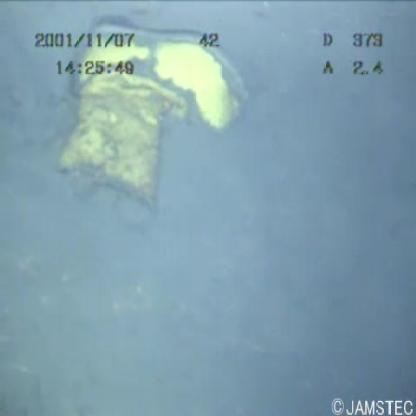Rác: (33, 8, 248, 218)
